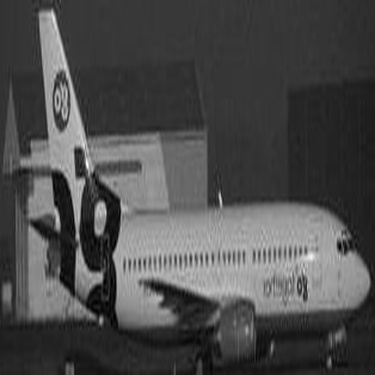airplane: (5, 3, 373, 372)
